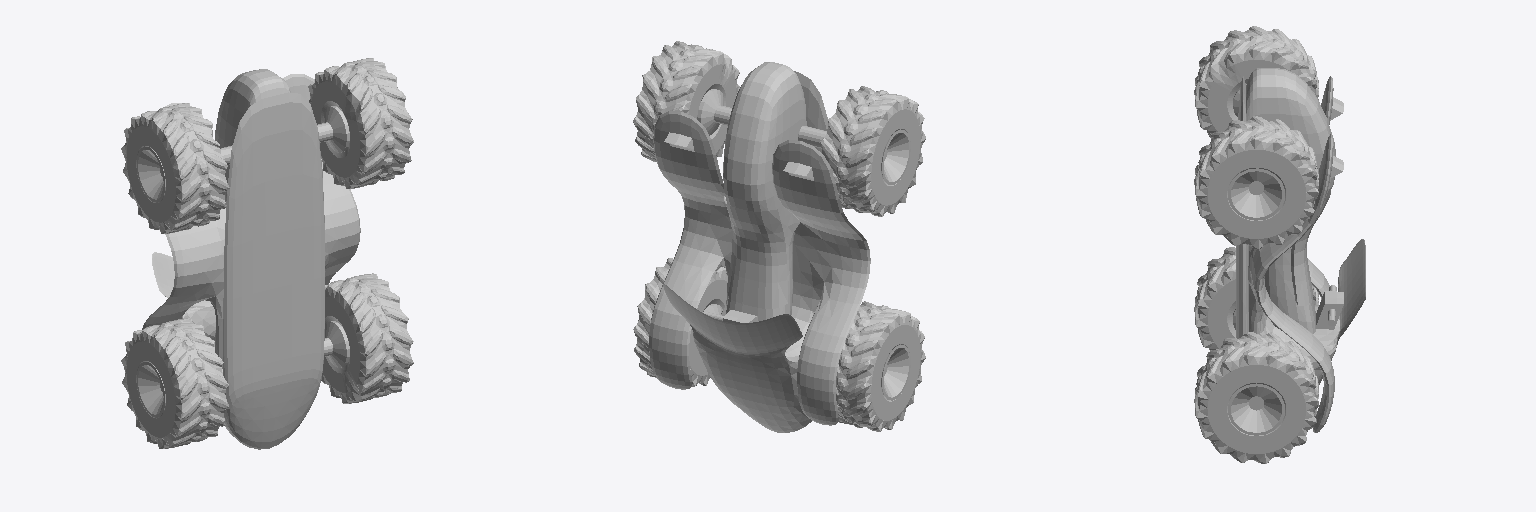
File: masina.obj
3 renders of one model, left to right at view 1: azimuth 30°, elevation 25°; view 2: azimuth 150°, elevation 25°; view 3: azimuth 270°, elevation 25°, orthographic.
Parts seen in each view (by area): view 1: Box01, Cylinder06, Cylinder10, Cylinder05, Cylinder07, Cylinder01, Cylinder08, Object01; view 2: Box01, Cylinder06, Cylinder10, Object02, Object01, Cylinder05, Cylinder07, Cylinder01; view 3: Cylinder06, Box01, Cylinder10, Cylinder01, Cylinder08, Object01, Object02.
Boxes of the visible parts, <box> form: Box01: <box>142,69,360,449</box>; Cylinder06: <box>121,58,413,233</box>; Cylinder10: <box>121,273,413,448</box>; Cylinder05: <box>137,145,232,202</box>; Cylinder07: <box>137,362,222,417</box>; Cylinder01: <box>317,106,349,152</box>; Cylinder08: <box>324,321,349,367</box>; Object01: <box>152,252,212,307</box>; Box01: <box>649,62,870,432</box>; Cylinder06: <box>633,41,925,216</box>; Cylinder10: <box>633,258,925,431</box>; Object02: <box>725,203,787,308</box>; Object01: <box>663,284,802,358</box>; Cylinder05: <box>798,126,910,184</box>; Cylinder07: <box>881,344,910,400</box>; Cylinder01: <box>697,89,731,135</box>; Cylinder06: <box>1194,26,1318,248</box>; Box01: <box>1236,68,1343,432</box>; Cylinder10: <box>1194,247,1318,463</box>; Cylinder01: <box>1228,168,1284,220</box>; Cylinder08: <box>1228,383,1284,435</box>; Object01: <box>1248,239,1365,340</box>; Object02: <box>1294,199,1328,305</box>.
Size of the model in its own units: 1933 by 2919 by 1230.